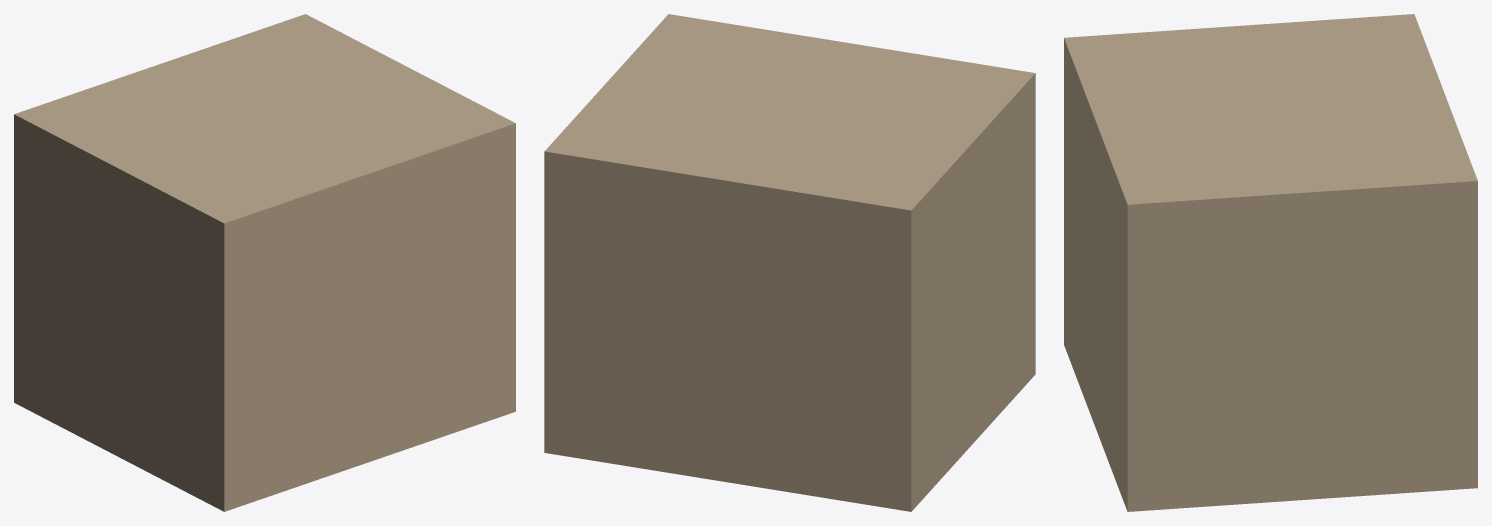
The model's file is bld_107639557.dae.
3 views of the same model, side by side, from view 1: azimuth 30°, elevation 25°; view 2: azimuth 150°, elevation 25°; view 3: azimuth 270°, elevation 25° (orthographic). The views are drawn at different scales.
Visible parts, largest first — view 1: bld_107639557; view 2: bld_107639557; view 3: bld_107639557.
Part boxes in pixels (x1,y1,x2,y2): bld_107639557: (14,14,515,511); bld_107639557: (544,14,1035,511); bld_107639557: (1064,14,1477,511).
Bounding box in the file's own units: 10.66 × 9.77 × 8.
